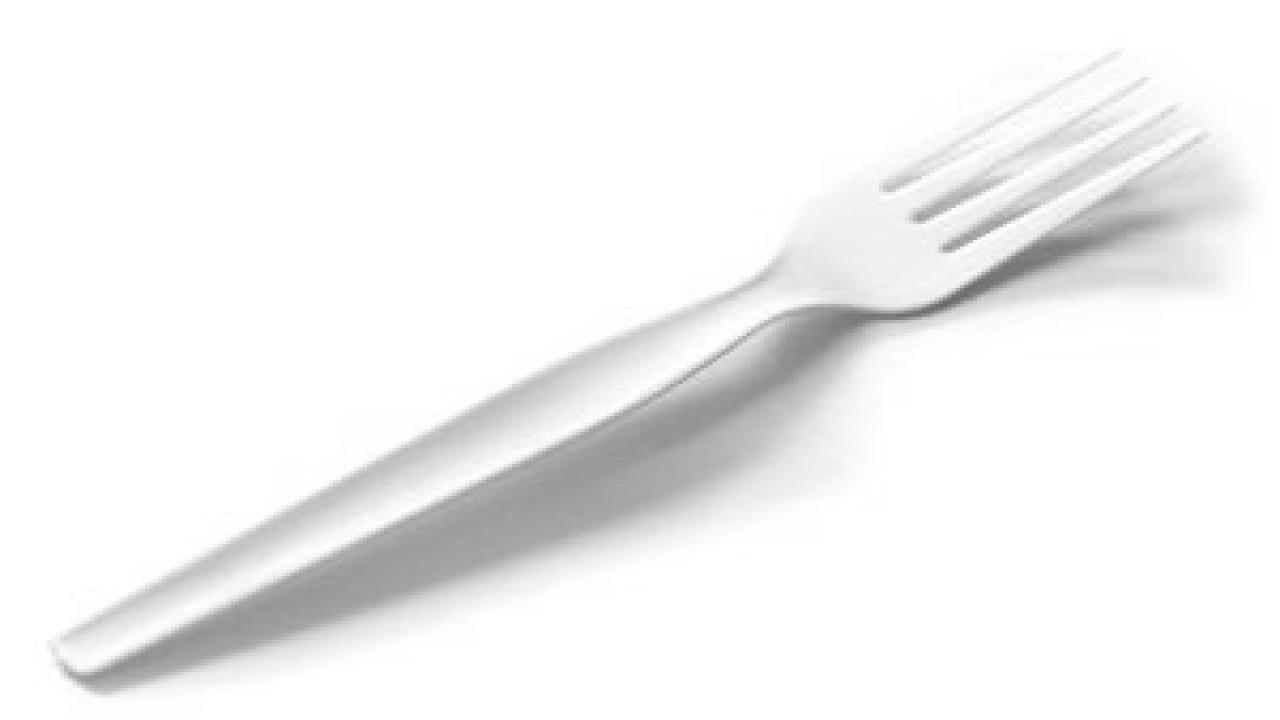fork: (47, 45, 1212, 685)
